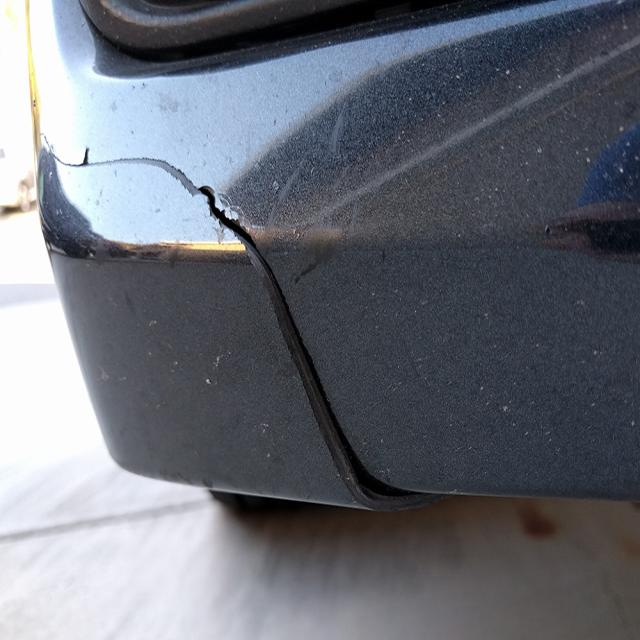tear: (33, 121, 438, 505)
